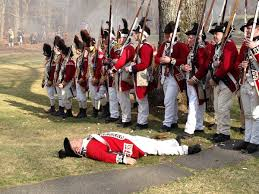10+: (35, 9, 259, 171)
down: (57, 128, 201, 167)
